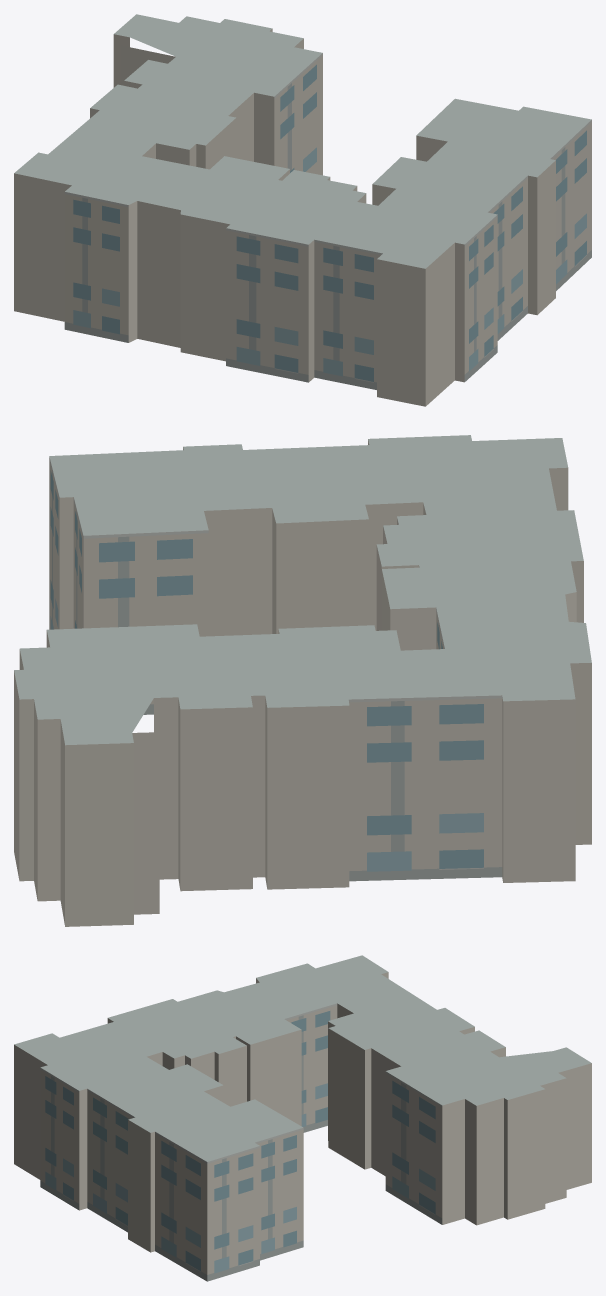
File: residential-c1577d9a-c83b-46a4-9e95-b322d5dd6f5f.glb
The picture shows the model from 3 angles, top to bottom: view 1: azimuth 30°, elevation 25°; view 2: azimuth 150°, elevation 25°; view 3: azimuth 270°, elevation 25°; orthographic projection. The views are drawn at different scales.
Parts seen in each view (by area): view 1: residential-c1577d9a-c83b-46a4-9e95-b322d5dd6f5f.tmp; view 2: residential-c1577d9a-c83b-46a4-9e95-b322d5dd6f5f.tmp; view 3: residential-c1577d9a-c83b-46a4-9e95-b322d5dd6f5f.tmp.
Part boxes in pixels (x1,y1,x2,y2): residential-c1577d9a-c83b-46a4-9e95-b322d5dd6f5f.tmp: [14, 14, 591, 406]; residential-c1577d9a-c83b-46a4-9e95-b322d5dd6f5f.tmp: [14, 435, 591, 926]; residential-c1577d9a-c83b-46a4-9e95-b322d5dd6f5f.tmp: [14, 955, 591, 1281].
Bounding box in the file's own units: 56.55 × 15.25 × 66.79.
